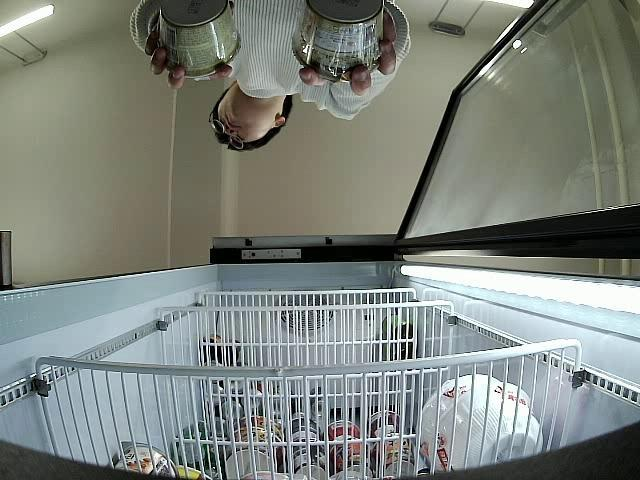04_chapagetti_S: (286, 0, 392, 75), (156, 0, 245, 75)
